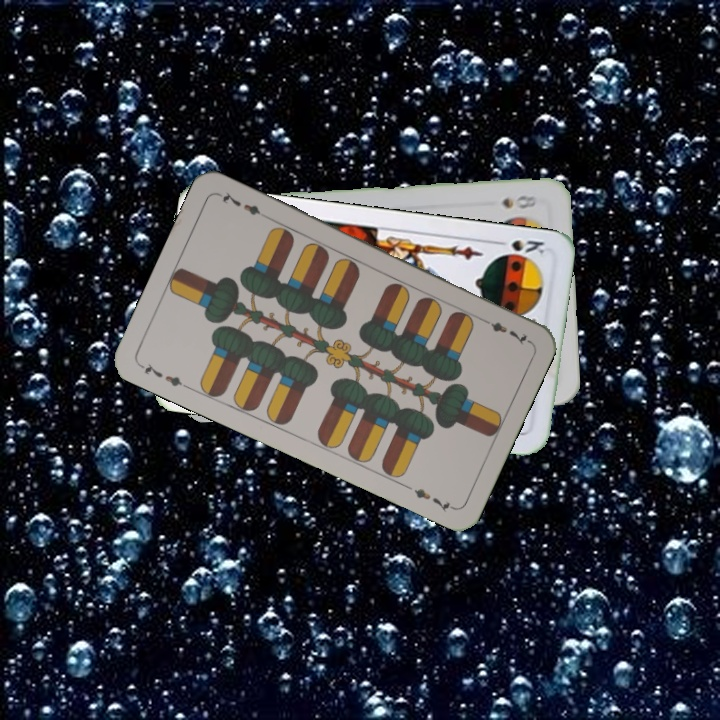E7: (476, 314, 532, 347), (136, 359, 192, 392)
S8: (498, 191, 539, 211)
SK: (490, 235, 549, 257)
